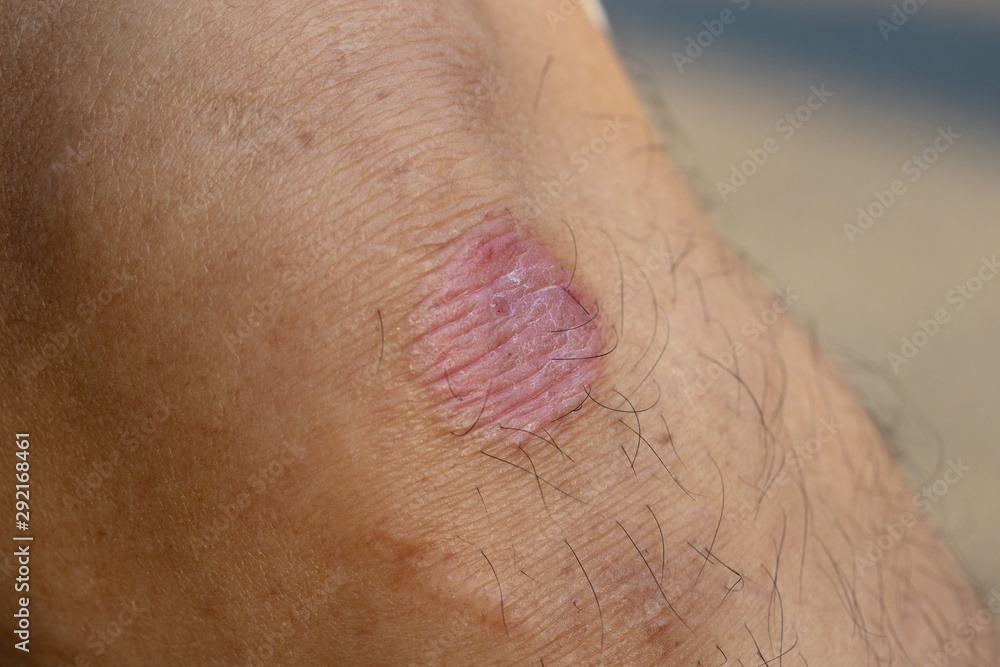Ringworm: (263, 64, 667, 302)
